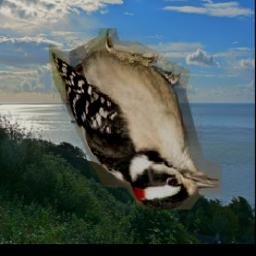Woodpecker: (50, 29, 223, 210)
